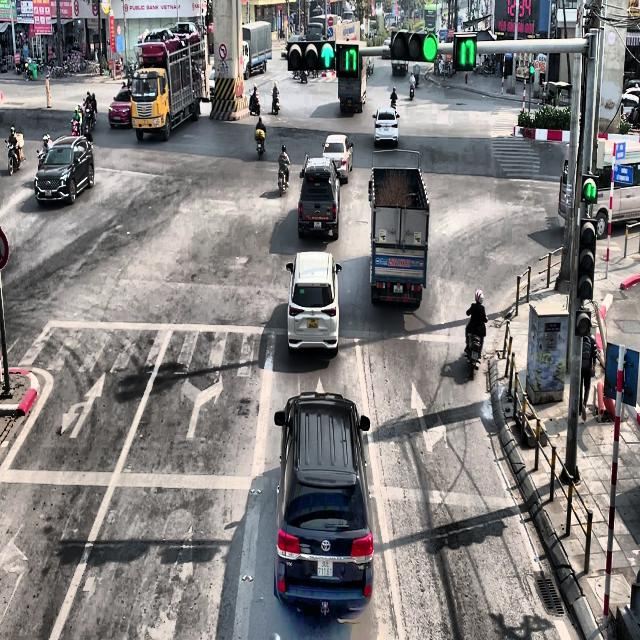lisence_plate: (316, 557, 333, 578), (389, 284, 408, 296), (312, 218, 326, 230), (306, 317, 318, 329)
